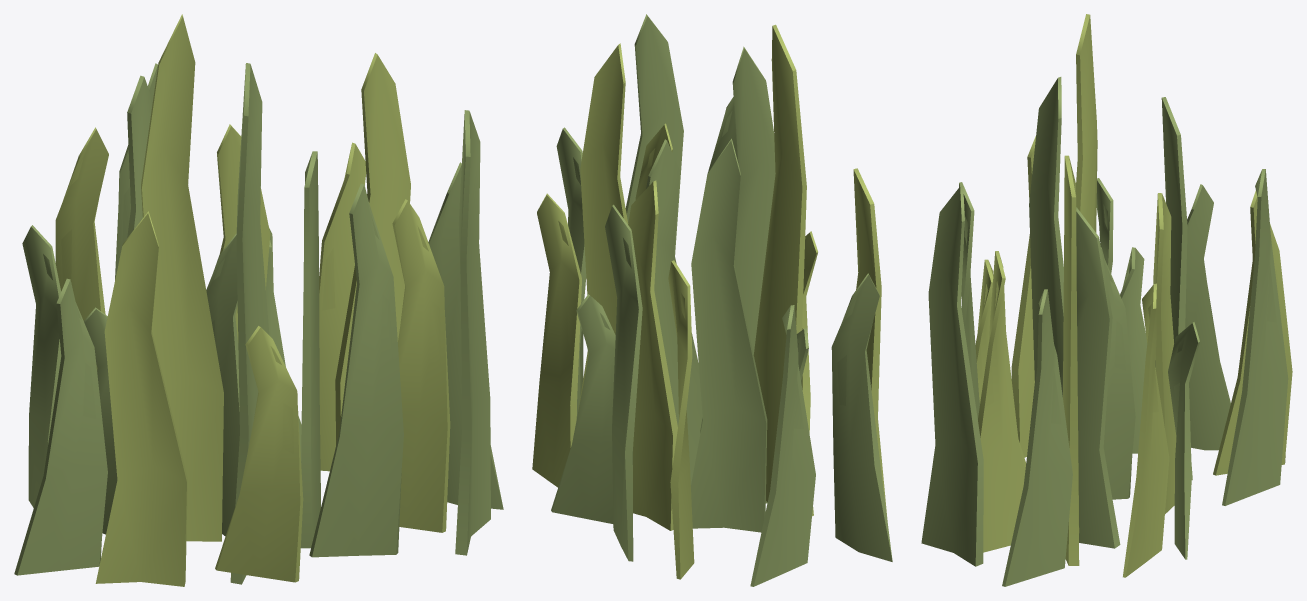
File: garden_grass2v2.fbx
The picture shows the model from 3 angles, left to right: view 1: azimuth 30°, elevation 25°; view 2: azimuth 150°, elevation 25°; view 3: azimuth 270°, elevation 25°; orthographic projection. The views are drawn at different scales.
Parts seen in each view (by area): view 1: polySurface42; view 2: polySurface42; view 3: polySurface42.
Boxes of the visible parts, x1=… form: polySurface42: x1=14, y1=14, x2=503, y2=586; polySurface42: x1=532, y1=14, x2=892, y2=586; polySurface42: x1=921, y1=14, x2=1292, y2=586.
Bounding box in the file's own units: 0.95 × 1.18 × 0.8341.
